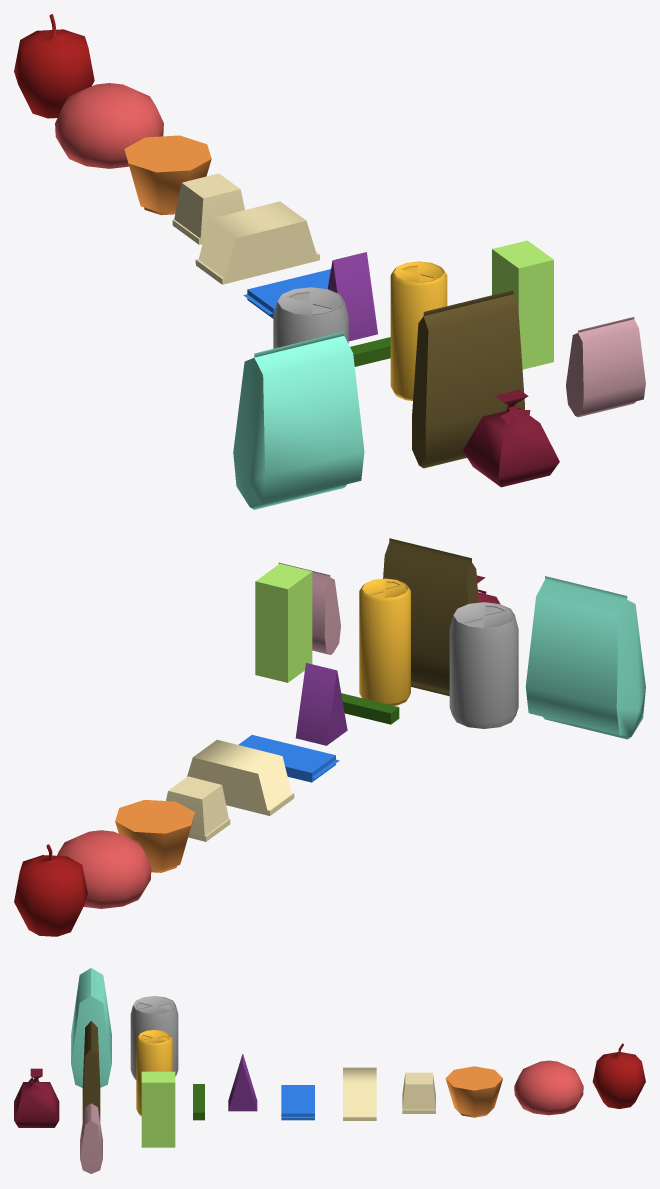
File: snack.fbx
3 views of the same model, one above another, from view 1: azimuth 30°, elevation 25°; view 2: azimuth 150°, elevation 25°; view 3: azimuth 270°, elevation 25° (orthographic). The views are drawn at different scales.
Visible parts, largest first — view 1: Chips, SpicyChips, WhiteCake, Hamburger, Gumi, LittleCookie, MilkPack, Apple, LongCan, Pudding, StrongCan, Cake (+3 smaller); view 2: Chips, StrongCan, SpicyChips, LongCan, MilkPack, WhiteCake, Hamburger, Apple, Pudding, Mt_Chocolate, Cake, Gumi (+2 smaller); view 3: Chips, Hamburger, MilkPack, Apple, Pudding, StrongCan, LittleCookie, WhiteCake, LongCan, SpicyChips, Cake, Gumi (+3 smaller).
Boxes of the visible parts, x1,y1,x2,y2 form: Chips: [233, 331, 364, 509]; SpicyChips: [412, 290, 524, 468]; WhiteCake: [195, 201, 319, 284]; Hamburger: [55, 83, 163, 168]; Gumi: [566, 317, 645, 417]; LittleCookie: [463, 389, 559, 487]; MilkPack: [492, 240, 553, 369]; Apple: [14, 14, 94, 118]; LongCan: [390, 261, 447, 400]; Pudding: [124, 135, 211, 215]; StrongCan: [273, 287, 348, 348]; Cake: [172, 173, 244, 244]; Chips: [525, 576, 645, 739]; StrongCan: [449, 602, 518, 728]; SpicyChips: [383, 538, 478, 696]; LongCan: [359, 578, 410, 705]; MilkPack: [255, 563, 312, 682]; WhiteCake: [187, 739, 294, 815]; Hamburger: [57, 830, 151, 908]; Apple: [14, 844, 87, 936]; Pudding: [115, 799, 194, 872]; Mt_Chocolate: [295, 663, 347, 745]; Cake: [166, 776, 230, 841]; Gumi: [278, 562, 340, 654]; Chips: [71, 968, 111, 1087]; Hamburger: [514, 1060, 583, 1115]; MilkPack: [141, 1071, 175, 1147]; Apple: [592, 1043, 645, 1108]; Pudding: [445, 1066, 502, 1117]; StrongCan: [130, 996, 178, 1079]; LittleCookie: [14, 1068, 59, 1127]; WhiteCake: [343, 1067, 376, 1120]; LongCan: [136, 1030, 172, 1116]; SpicyChips: [82, 1021, 100, 1121]; Cake: [402, 1072, 435, 1113]; Gumi: [80, 1103, 102, 1173].
Size of the model in its own units: 43.25 by 16.49 by 94.68.
